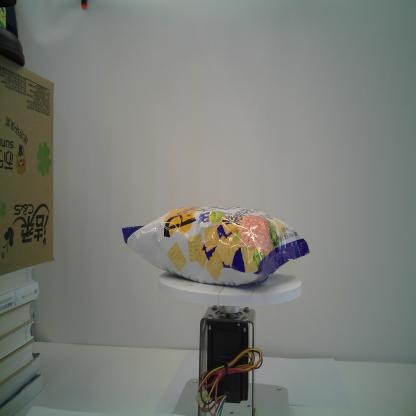Puffed Food: (122, 204, 310, 286)
